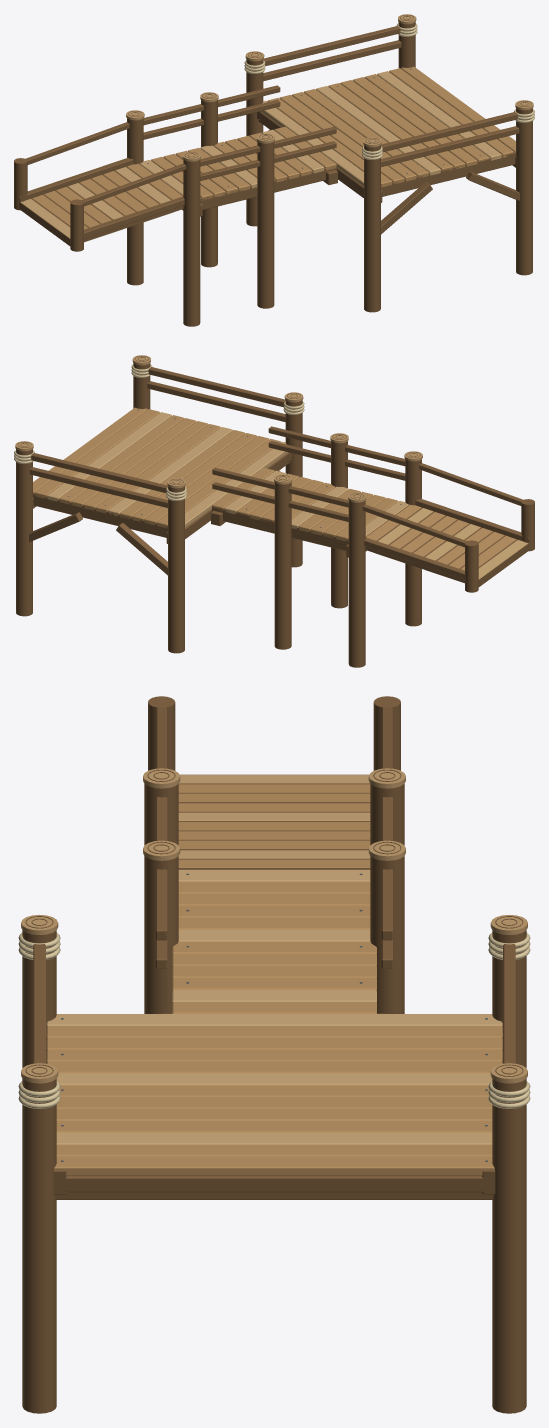
Rendered from SM_FishingDock.fbx.
The picture shows the model from 3 angles, top to bottom: view 1: azimuth 30°, elevation 25°; view 2: azimuth 150°, elevation 25°; view 3: azimuth 270°, elevation 25°; orthographic projection. The views are drawn at different scales.
Parts seen in each view (by area): view 1: SM_FishingDock; view 2: SM_FishingDock; view 3: SM_FishingDock.
Boxes of the visible parts, x1,y1,x2,y2 form: SM_FishingDock: [14, 14, 534, 326]; SM_FishingDock: [14, 355, 534, 667]; SM_FishingDock: [18, 696, 530, 1413].
Bounding box in the file's own units: 8.74 × 4.49 × 3.25.
